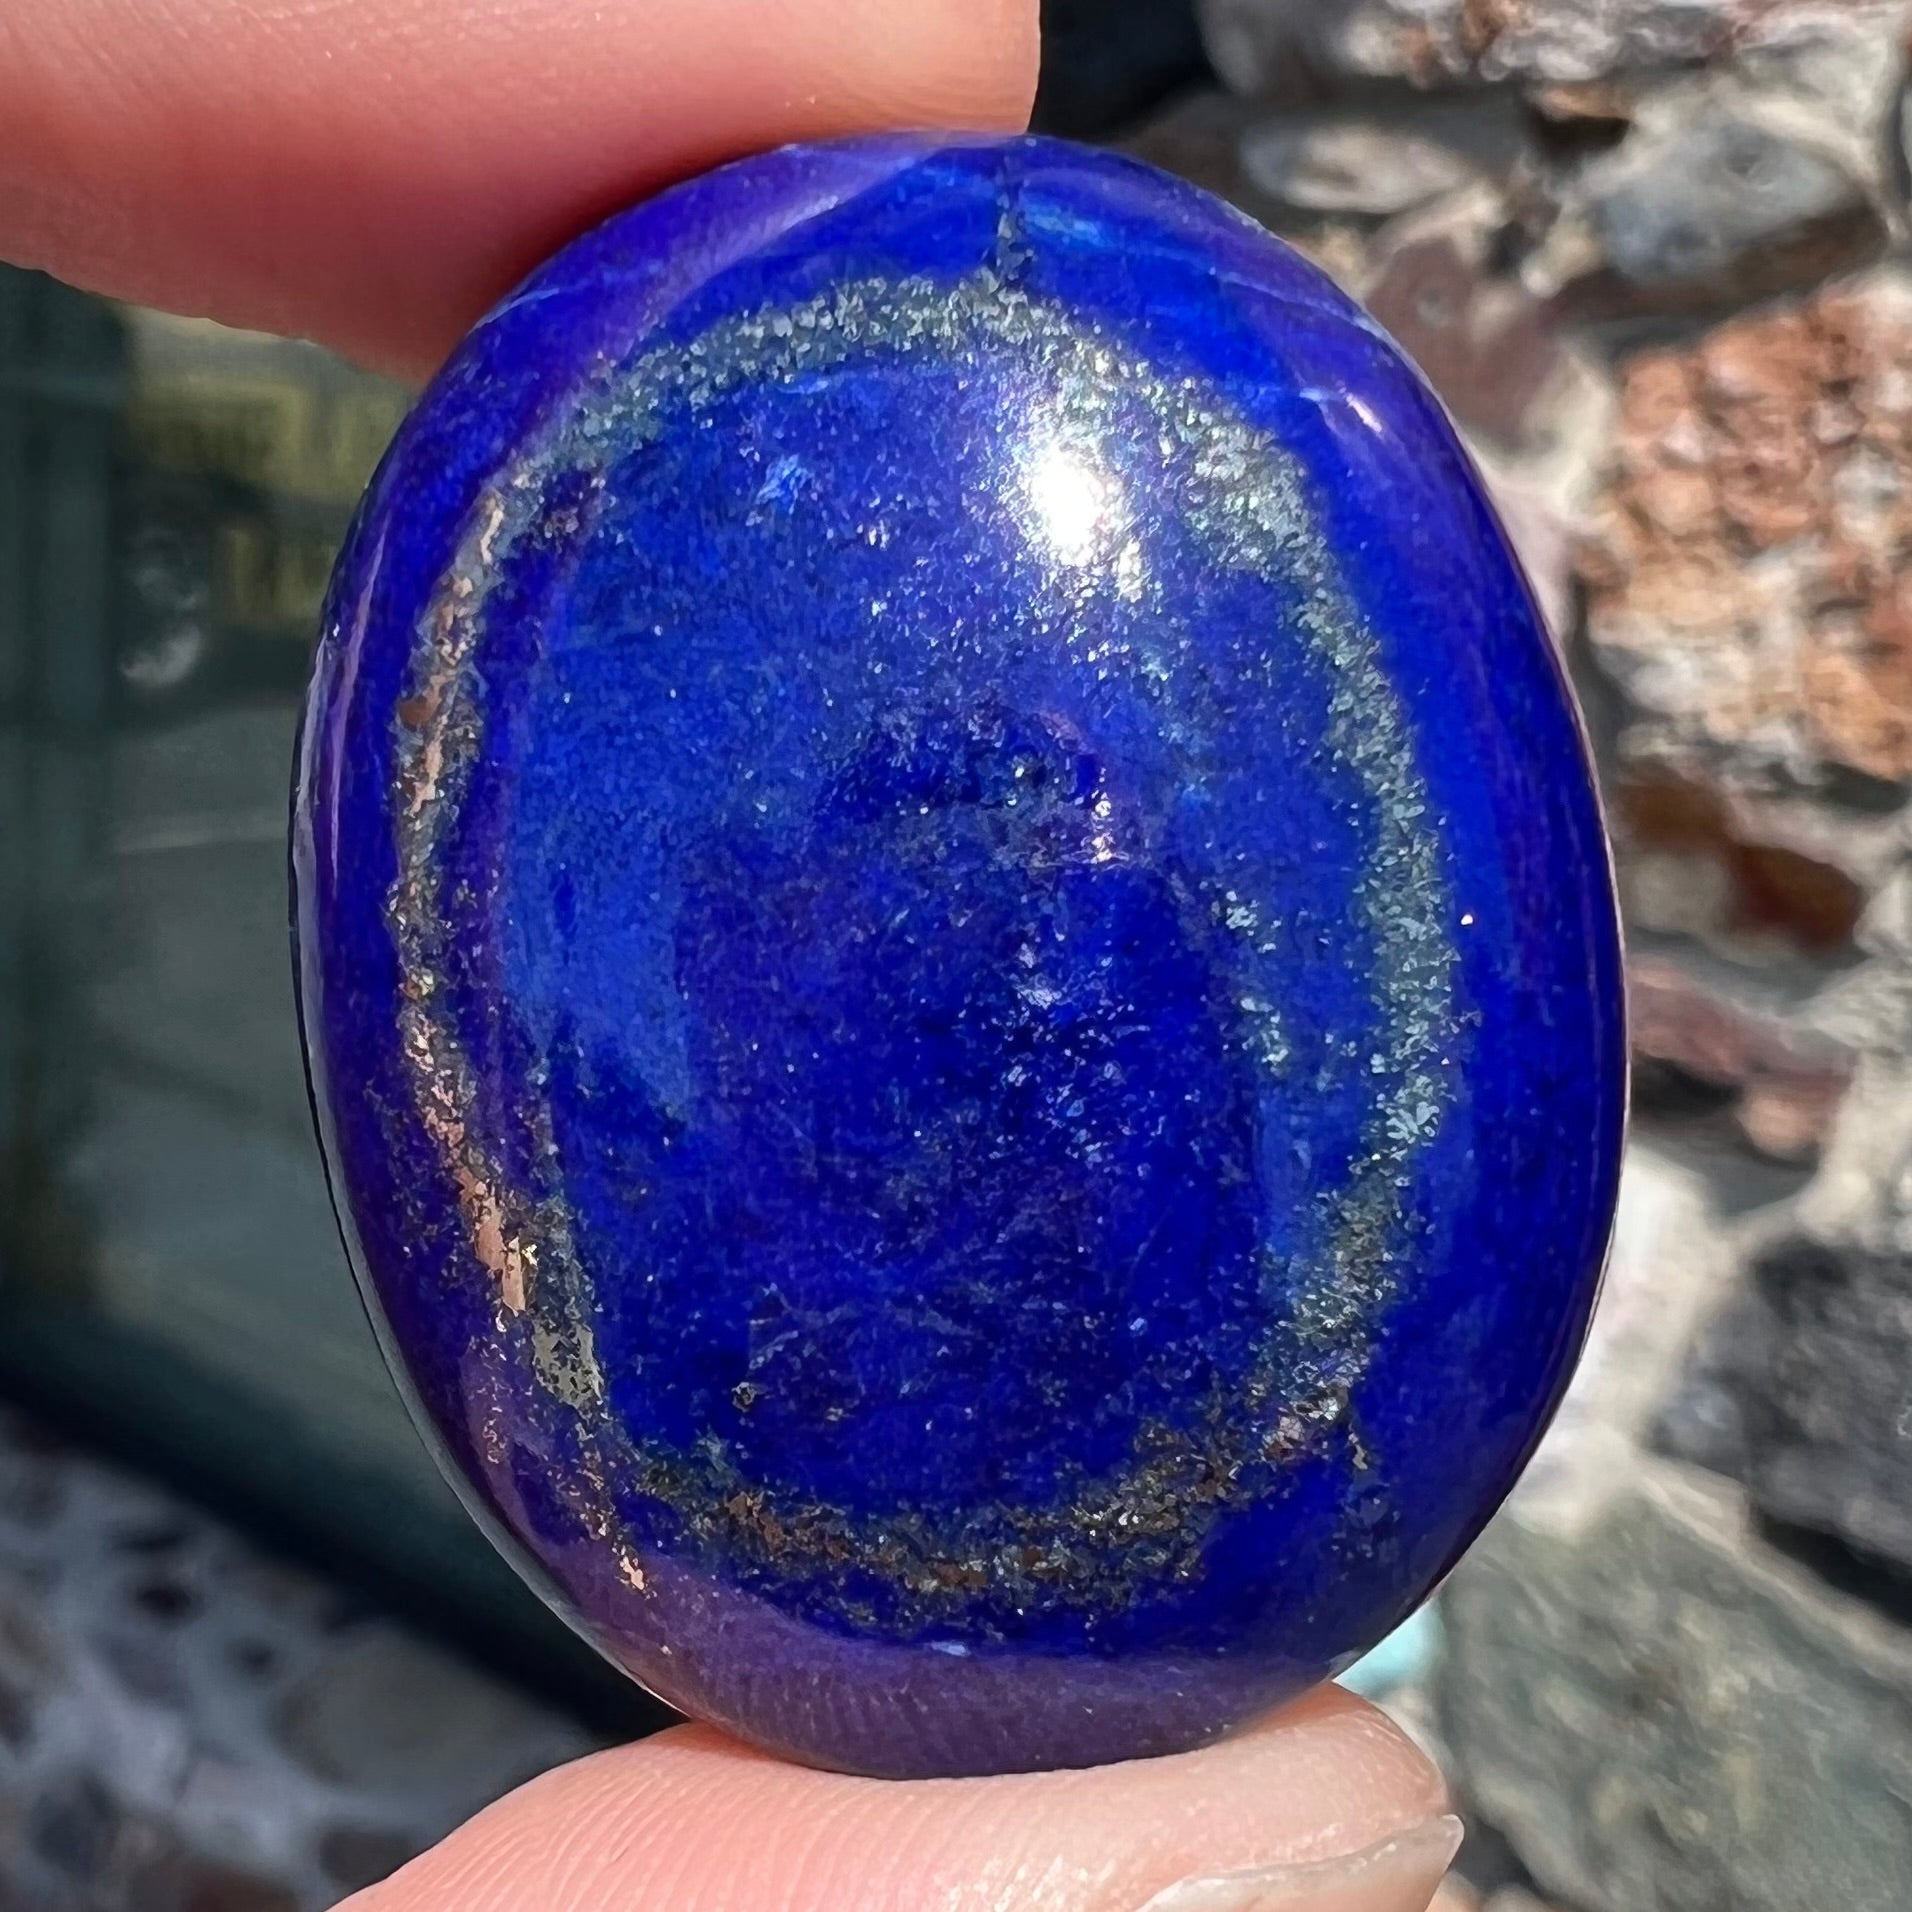Lapis_Lazuli: (277, 124, 1635, 1779)
